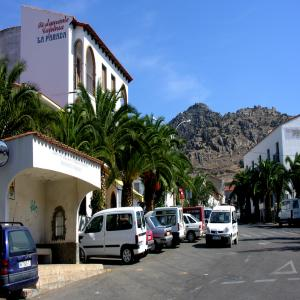Vehicle-registration-plate: (20, 261, 32, 269)
